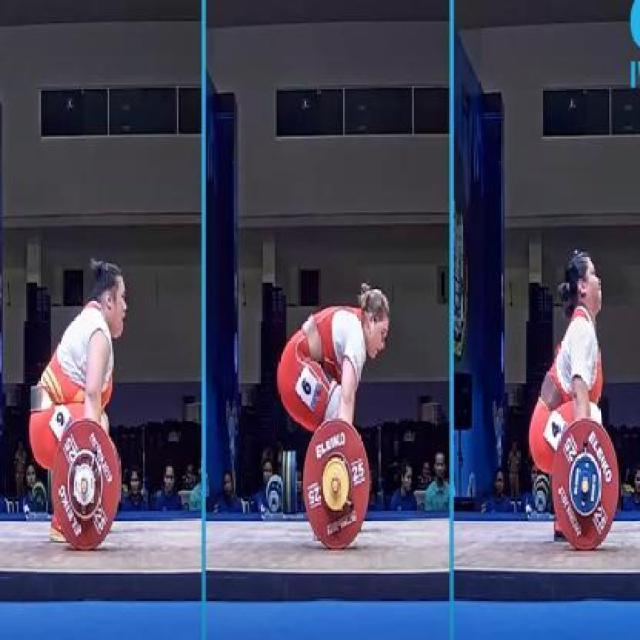barbell: (300, 413, 374, 554), (48, 414, 121, 555), (549, 418, 624, 555)
